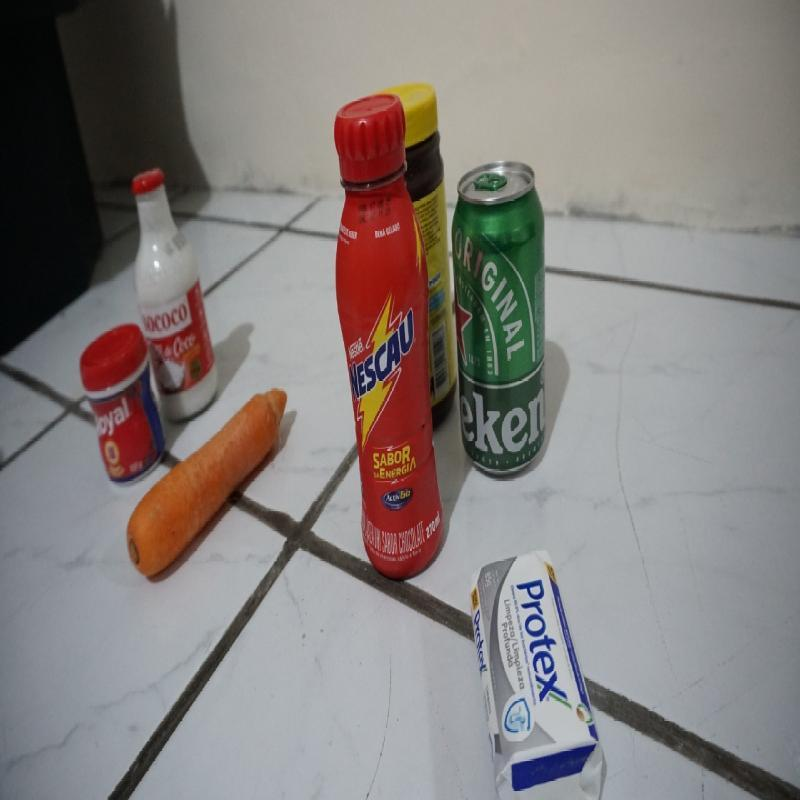Beer can: (454, 166, 552, 476)
Carrot: (145, 403, 285, 578)
Chocolate Milk: (333, 79, 412, 567)
Chocolate Powder: (402, 79, 453, 301)
Coconut Milk: (130, 169, 214, 399)
Soap: (470, 550, 611, 800)
Yeast: (84, 323, 157, 465)
